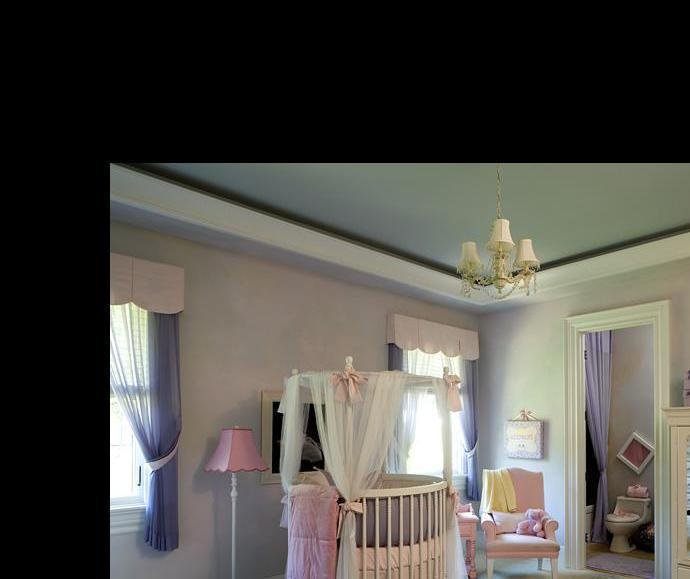Armario: (668, 408, 690, 579)
